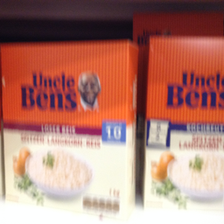rice: (1, 40, 139, 222), (142, 35, 224, 210)
